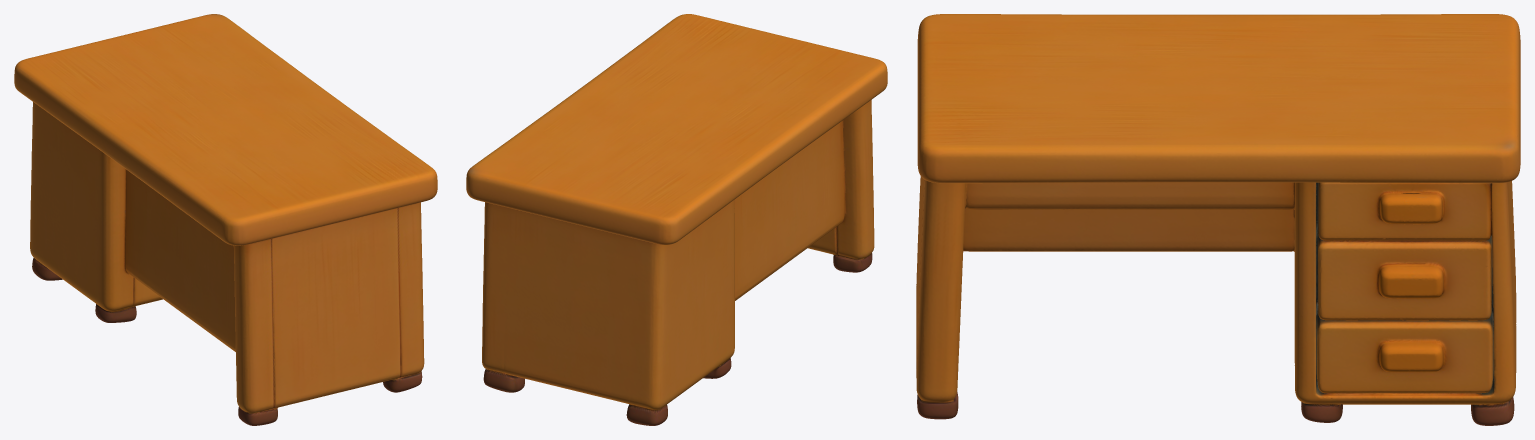
File: desk.glb
The picture shows the model from 3 angles, left to right: view 1: azimuth 30°, elevation 25°; view 2: azimuth 150°, elevation 25°; view 3: azimuth 270°, elevation 25°; orthographic projection. The views are drawn at different scales.
Visible parts, largest first — view 1: tripo_node_2d2d7902-2234-4232-a1ed-59fbc9a8468e; view 2: tripo_node_2d2d7902-2234-4232-a1ed-59fbc9a8468e; view 3: tripo_node_2d2d7902-2234-4232-a1ed-59fbc9a8468e.
Boxes of the visible parts, <box> form: tripo_node_2d2d7902-2234-4232-a1ed-59fbc9a8468e: <box>14,14,437,425</box>; tripo_node_2d2d7902-2234-4232-a1ed-59fbc9a8468e: <box>466,14,887,425</box>; tripo_node_2d2d7902-2234-4232-a1ed-59fbc9a8468e: <box>916,14,1520,425</box>.
Bounding box in the file's own units: 0.548 × 0.5387 × 1.
1 material, 1 textured.
